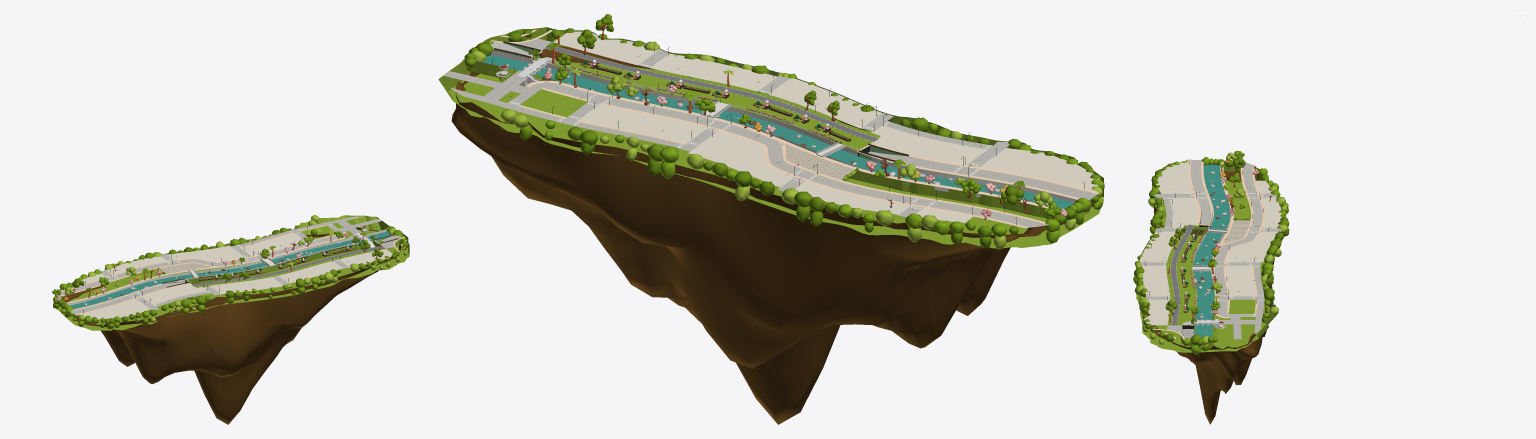
Rendered from isla_terreno.glb.
3 renders of one model, left to right at view 1: azimuth 30°, elevation 25°; view 2: azimuth 150°, elevation 25°; view 3: azimuth 270°, elevation 25°, orthographic. The views are drawn at different scales.
Parts seen in each view (by area): view 1: isla_cesped_003.001, isla_cesped_003, cuadras_pavimento_024, rio_agua_005, arboles_copas_01, arboles_copas_03, calle_av1norte_015, rio_muros_004, arboles_copas_02, arboles_copas_04, Plane, calle_av_colombia_oeste_007 (+3 smaller); view 2: isla_cesped_003.001, cuadras_pavimento_024, isla_cesped_003, calle_av1norte_015, rio_agua_005, arboles_copas_03, arboles_copas_01, arboles_copas_02, arboles_copas_04, rio_muros_004, Plane, calle_av_colombia_oeste_007 (+9 smaller); view 3: cuadras_pavimento_024, isla_cesped_003, isla_cesped_003.001, rio_agua_005, calle_av1norte_015, arboles_copas_01, arboles_copas_03, arboles_copas_02, Plane, arboles_copas_04, calle_av_colombia_oeste_007, ciclorruta_012 (+4 smaller).
Boxes of the visible parts, bbox=[...] form: isla_cesped_003.001: bbox=[61, 227, 401, 424]; isla_cesped_003: bbox=[56, 215, 409, 330]; cuadras_pavimento_024: bbox=[79, 233, 392, 319]; rio_agua_005: bbox=[69, 231, 390, 309]; arboles_copas_01: bbox=[67, 226, 402, 324]; arboles_copas_03: bbox=[53, 222, 406, 329]; calle_av1norte_015: bbox=[57, 234, 344, 295]; rio_muros_004: bbox=[67, 229, 386, 305]; arboles_copas_02: bbox=[60, 215, 407, 322]; arboles_copas_04: bbox=[57, 230, 408, 327]; Plane: bbox=[101, 223, 349, 310]; calle_av_colombia_oeste_007: bbox=[71, 282, 184, 314]; isla_cesped_003.001: bbox=[451, 46, 1092, 424]; cuadras_pavimento_024: bbox=[553, 31, 1099, 222]; isla_cesped_003: bbox=[438, 27, 1103, 248]; calle_av1norte_015: bbox=[533, 82, 1047, 227]; rio_agua_005: bbox=[482, 55, 1074, 208]; arboles_copas_03: bbox=[469, 41, 1104, 243]; arboles_copas_01: bbox=[464, 30, 1101, 237]; arboles_copas_02: bbox=[470, 39, 1102, 249]; arboles_copas_04: bbox=[507, 28, 1098, 248]; rio_muros_004: bbox=[477, 50, 1076, 202]; Plane: bbox=[507, 49, 1009, 216]; calle_av_colombia_oeste_007: bbox=[868, 151, 1096, 200]; cuadras_pavimento_024: bbox=[1139, 161, 1281, 325]; isla_cesped_003: bbox=[1136, 160, 1282, 352]; isla_cesped_003.001: bbox=[1151, 171, 1274, 424]; rio_agua_005: bbox=[1193, 164, 1230, 337]; calle_av1norte_015: bbox=[1214, 162, 1262, 316]; arboles_copas_01: bbox=[1134, 164, 1289, 346]; arboles_copas_03: bbox=[1133, 157, 1288, 354]; arboles_copas_02: bbox=[1134, 161, 1287, 344]; Plane: bbox=[1140, 194, 1281, 317]; arboles_copas_04: bbox=[1144, 159, 1289, 341]; calle_av_colombia_oeste_007: bbox=[1190, 160, 1211, 224]; ciclorruta_012: bbox=[1170, 224, 1193, 325].
Size of the model in its own units: 46.81 by 43.94 by 41.88.
113 materials, 4 textured.
